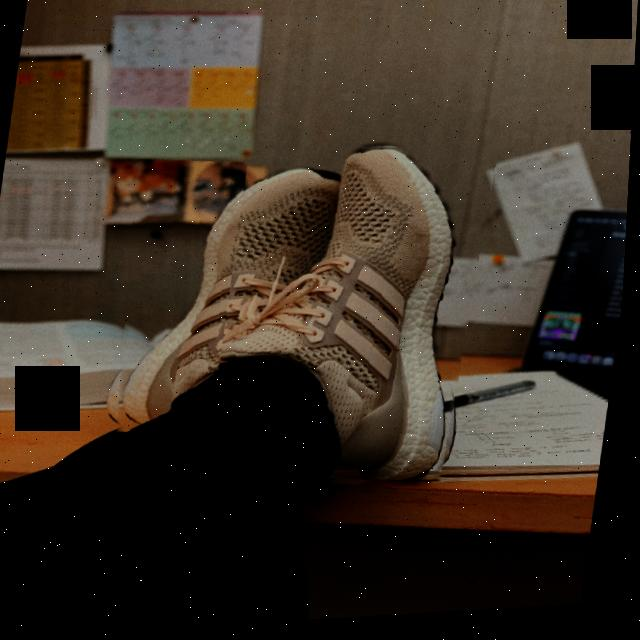shoe: (208, 131, 501, 499), (102, 151, 351, 452)
